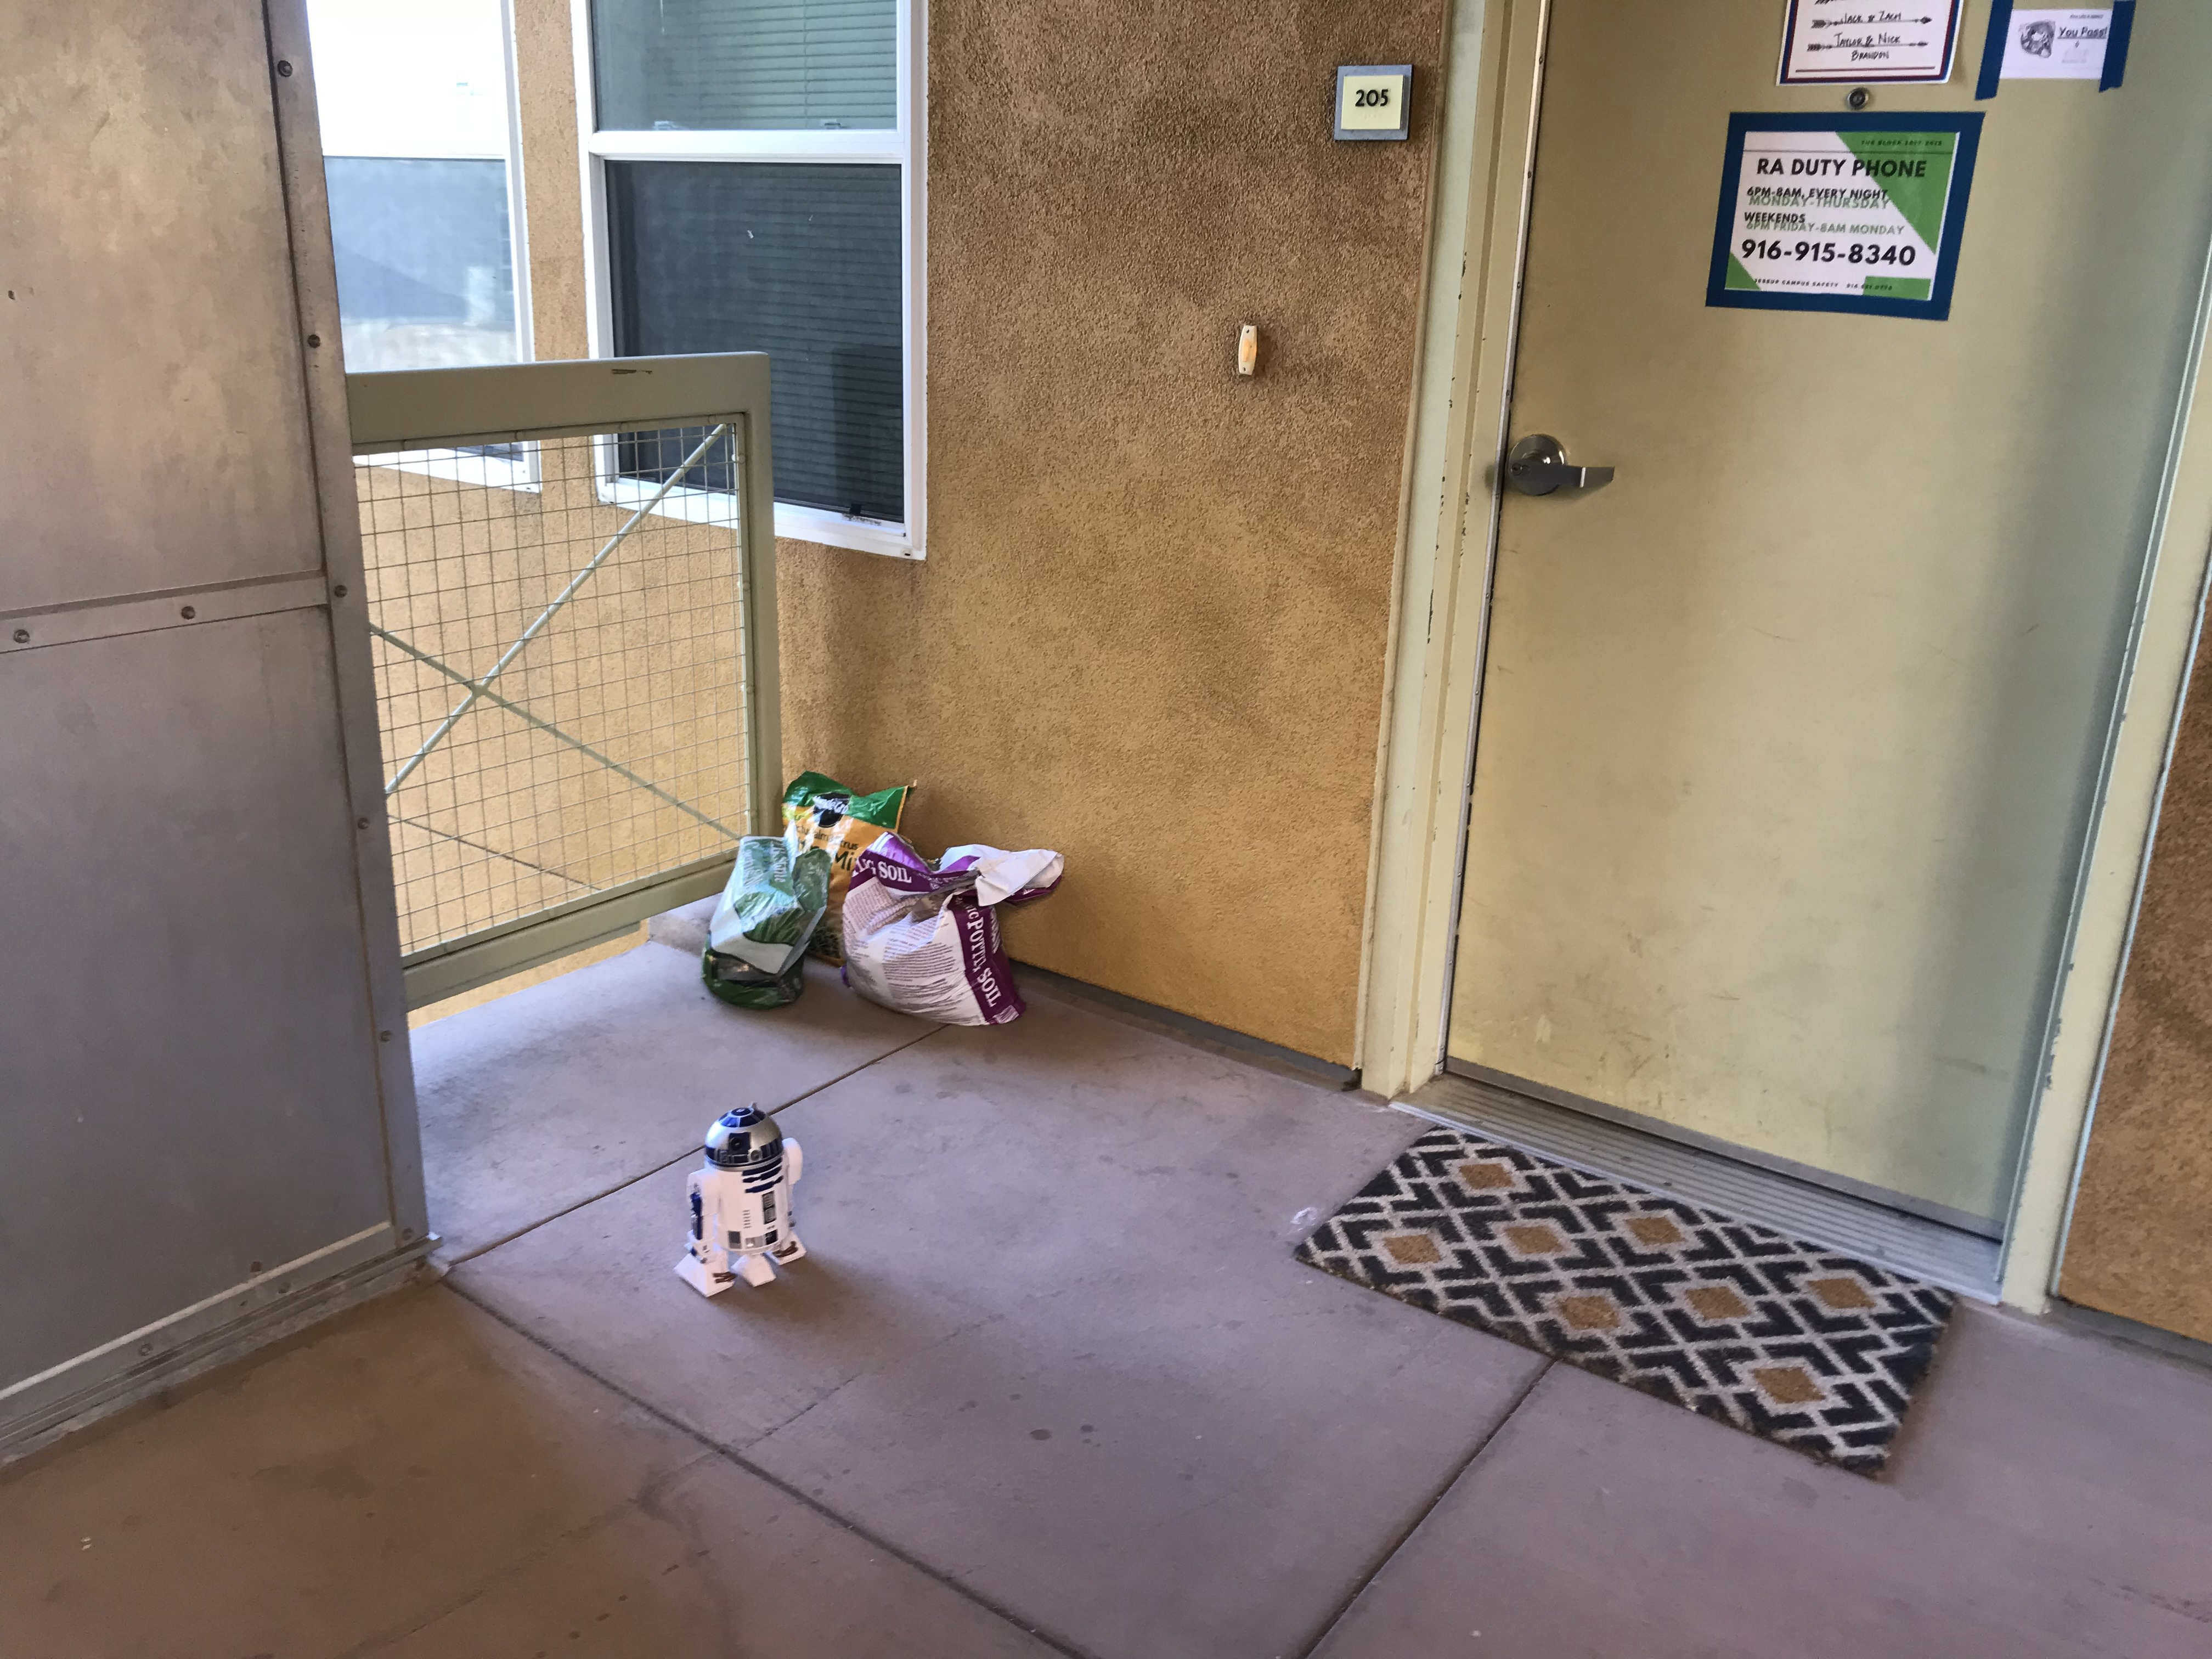r2d2: (686, 1105, 806, 1298)
